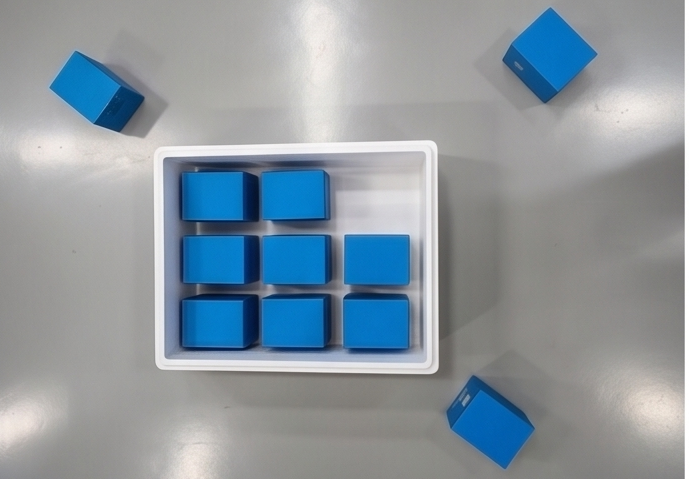blue_box: (88, 372, 183, 472), (154, 9, 241, 105), (546, 347, 639, 429), (429, 131, 510, 186), (429, 258, 509, 309), (353, 133, 429, 186), (429, 194, 509, 243), (279, 131, 346, 188), (353, 196, 429, 245), (357, 261, 429, 309), (279, 194, 346, 245)
container_box: (249, 104, 535, 344)
